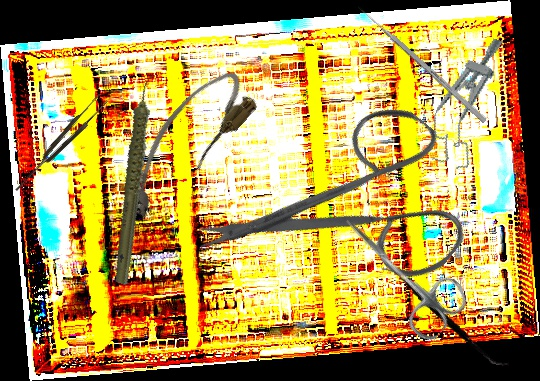Cannula: (100, 60, 265, 233)
Handpiece: (71, 72, 203, 287)
Iris Scissors: (191, 54, 506, 373), (322, 198, 475, 346)
Pusher: (356, 4, 488, 124)
Spatula Surgical: (368, 266, 522, 367)
Speculum: (419, 28, 513, 173)
Tissue Forceps: (9, 92, 110, 196)
